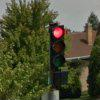Traffic light: (41, 10, 73, 84)
